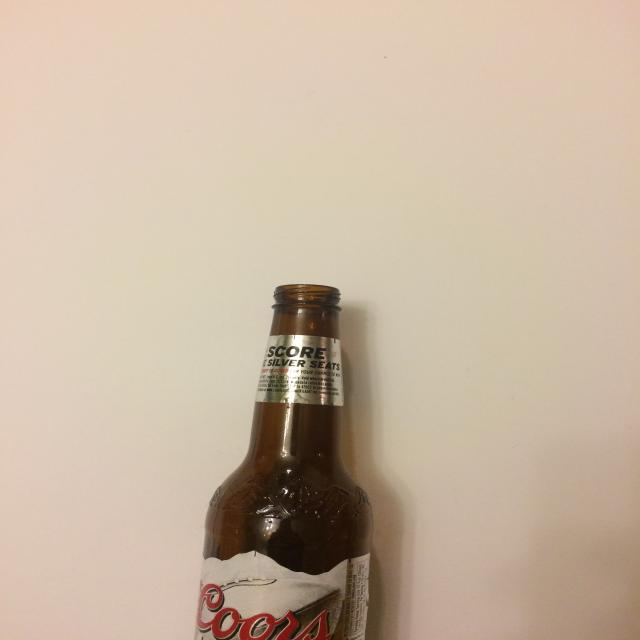glass: (193, 283, 375, 640)
